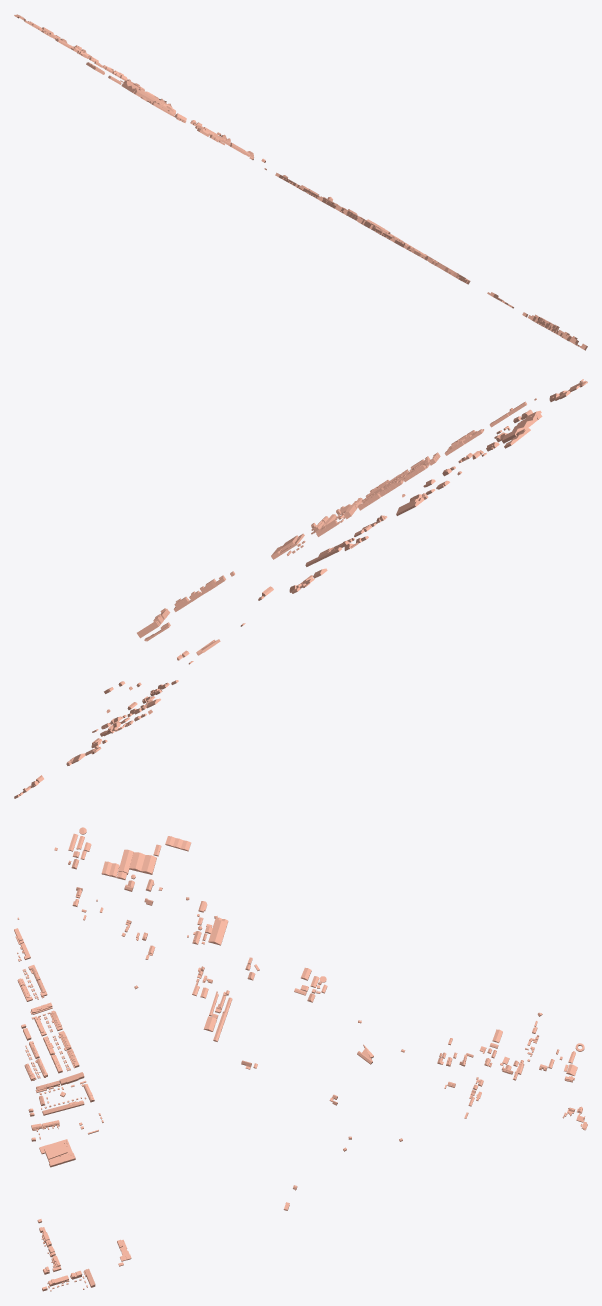
The picture shows the model from 3 angles, top to bottom: view 1: azimuth 30°, elevation 25°; view 2: azimuth 150°, elevation 25°; view 3: azimuth 270°, elevation 25°; orthographic projection. The views are drawn at different scales.
Size of the model in its own units: 898 by 687 by 1236.
